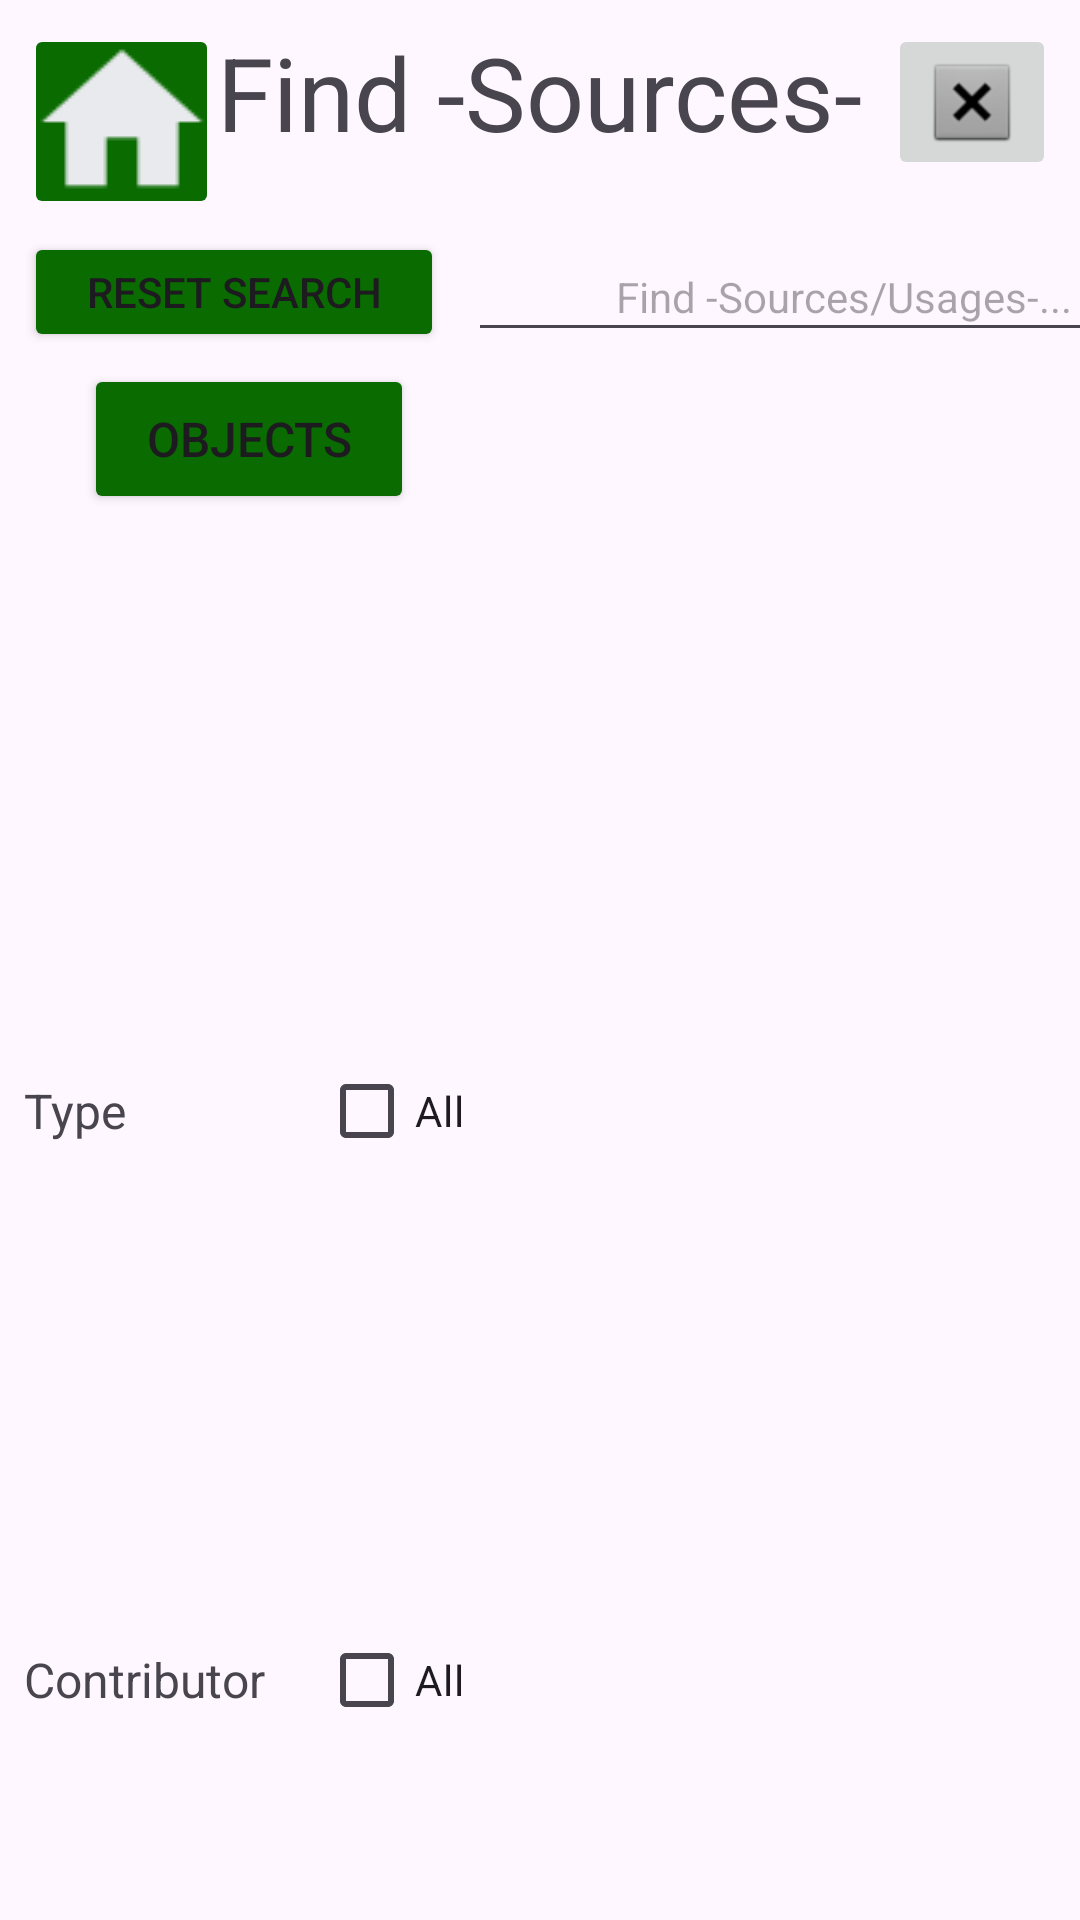

Icon click points for this 1080 × 1920 phone screenshot, format point (x, y):
homebtn: point (121, 121)
